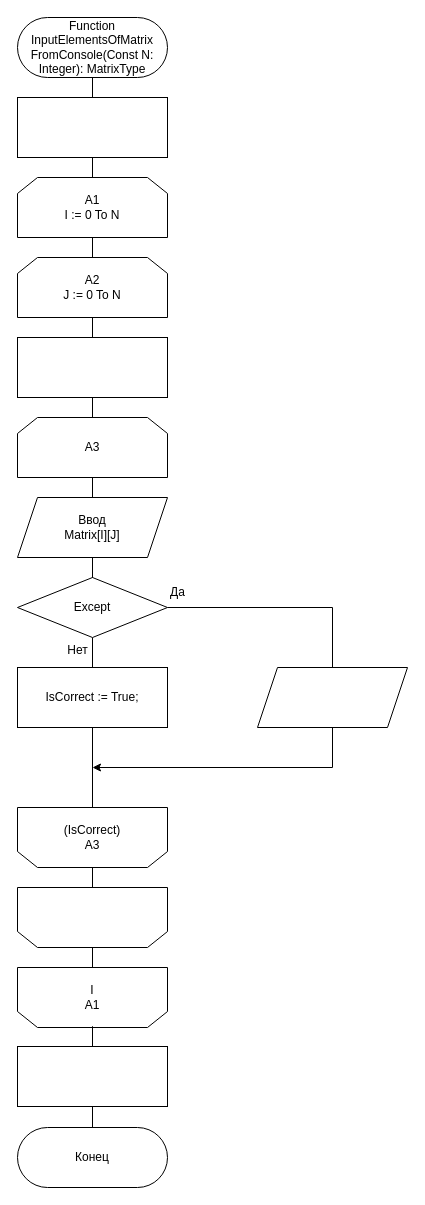
This 425x1205 diagram has some shape labels left out. The shapes that lost their labels are listed below. From the top down, each one's centre as x and y in pixels, then its label:
At [92,127]: "IsCorrect := False; SetLength (Matrix, N + 1, N + 1);".
At [92,367]: "IsCorrect := False;".
At [332,697]: "Вывод о некорректном вводе".
At [92,917]: "J A2".
At [92,1076]: "Result := Matrix;".
